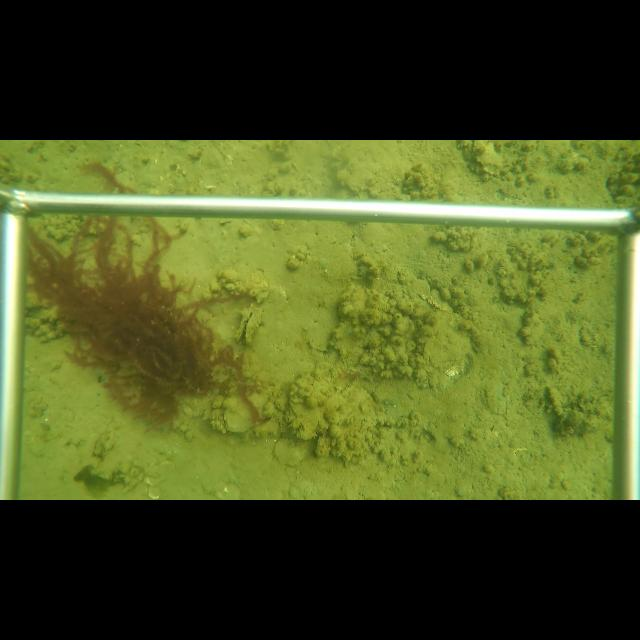Oyster-Closed: (221, 382, 278, 434)
Oyster-Open: (231, 306, 263, 346)
